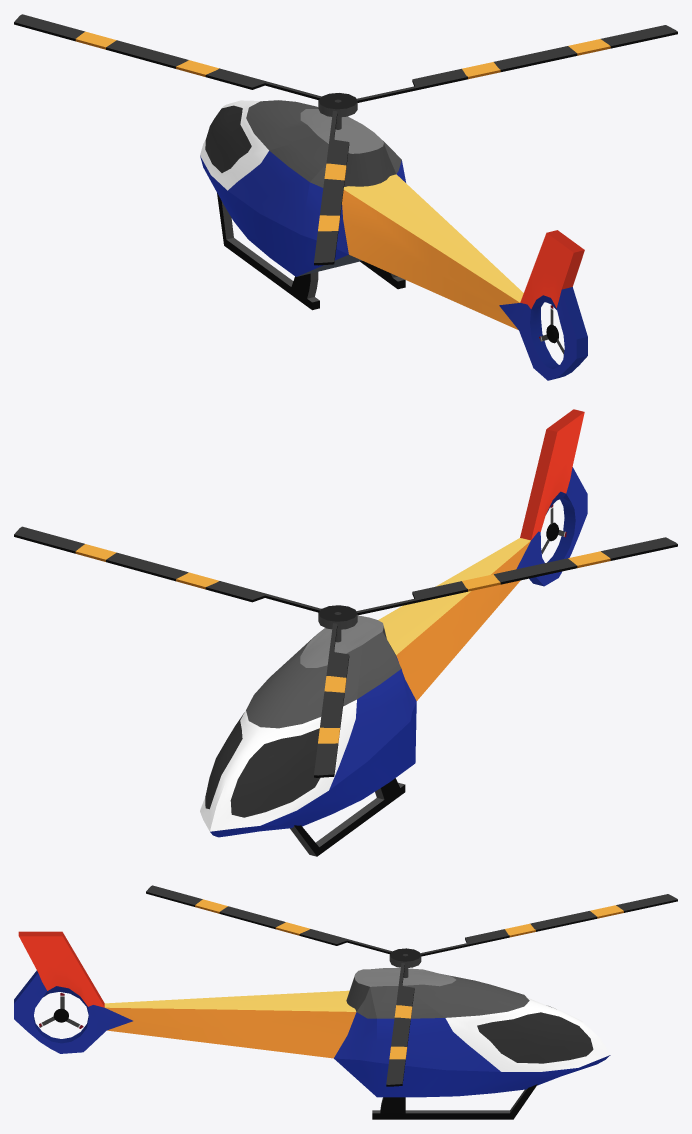
File: movingheli.glb
3 renders of one model, top to bottom at view 1: azimuth 30°, elevation 25°; view 2: azimuth 150°, elevation 25°; view 3: azimuth 270°, elevation 25°, orthographic. The views are drawn at different scales.
Parts seen in each view (by area): view 1: Body, Rotor; view 2: Body, Rotor; view 3: Body, Rotor.
Boxes of the visible parts, box(x1,y1,x2,y2) form: Body: box(200, 100, 587, 380); Rotor: box(14, 14, 677, 265); Body: box(200, 409, 587, 856); Rotor: box(14, 526, 677, 777); Body: box(14, 931, 610, 1119); Rotor: box(146, 885, 677, 1086).
Size of the model in its own units: 8.34 by 3.26 by 11.73.
1 material, 1 textured.
